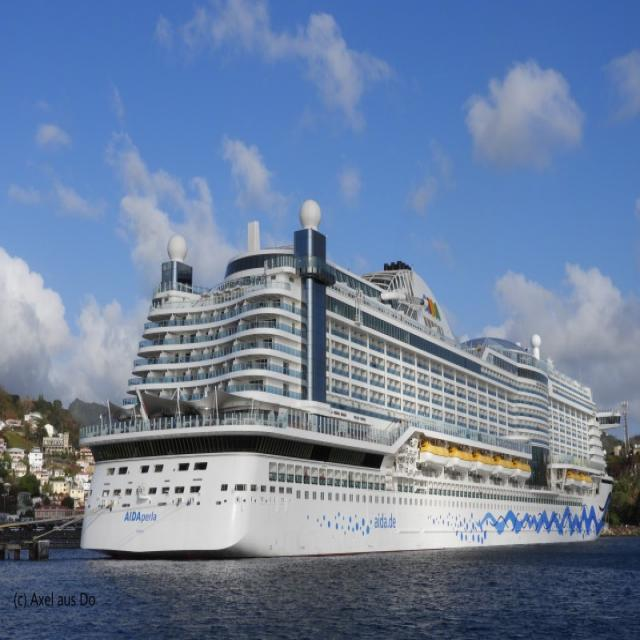cruises: (73, 196, 624, 572)
